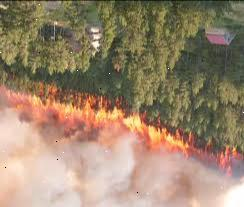fire: (96, 102, 186, 151), (2, 90, 96, 118), (211, 150, 242, 178)
